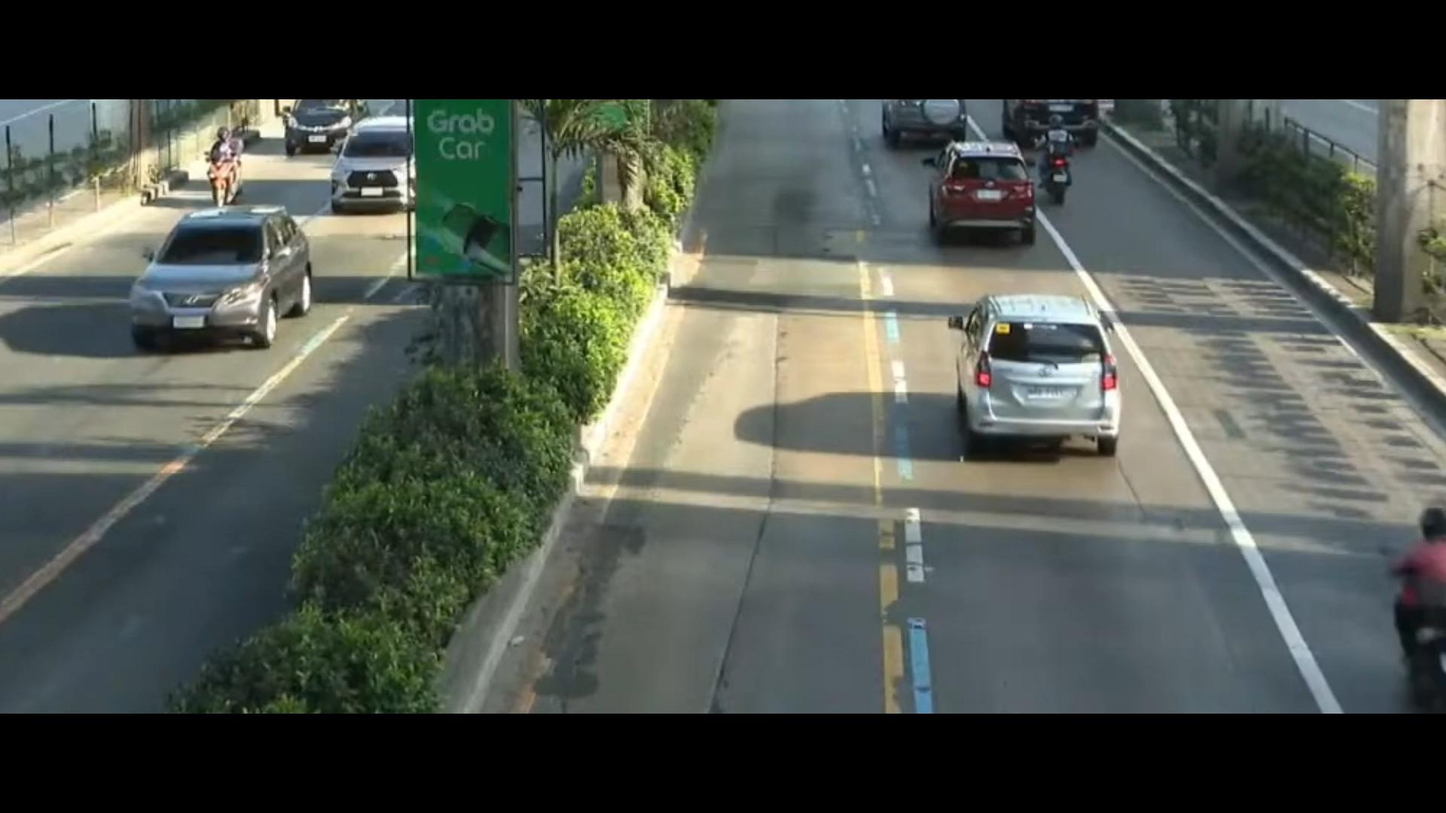Motorcycle: (1348, 480, 1446, 705), (185, 119, 249, 202), (1035, 123, 1077, 209)
SUV: (929, 285, 1155, 474), (922, 140, 1049, 256), (311, 119, 426, 208), (872, 96, 964, 160), (285, 93, 369, 155)
Sedan: (111, 200, 337, 352)
